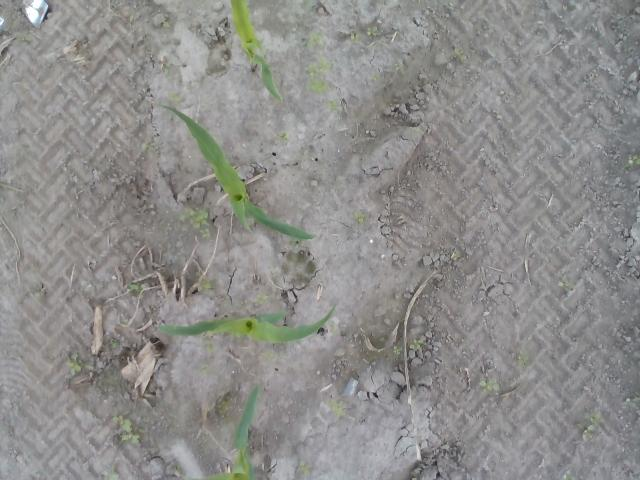Maize: (157, 102, 316, 242), (160, 304, 336, 346), (183, 385, 260, 479), (227, 0, 286, 101)
Weeds: (175, 207, 211, 239), (306, 56, 330, 96), (118, 417, 142, 445), (324, 396, 347, 418), (62, 354, 84, 376), (306, 30, 327, 50), (478, 378, 502, 392), (196, 275, 215, 291), (585, 412, 602, 429), (556, 274, 572, 290), (125, 282, 144, 295), (408, 336, 424, 350), (102, 469, 122, 480), (625, 152, 640, 166), (364, 24, 378, 38), (254, 292, 268, 306), (352, 210, 366, 222), (300, 462, 310, 475), (278, 132, 289, 143), (327, 100, 338, 111), (350, 33, 360, 44), (111, 340, 121, 348), (393, 346, 401, 354)
